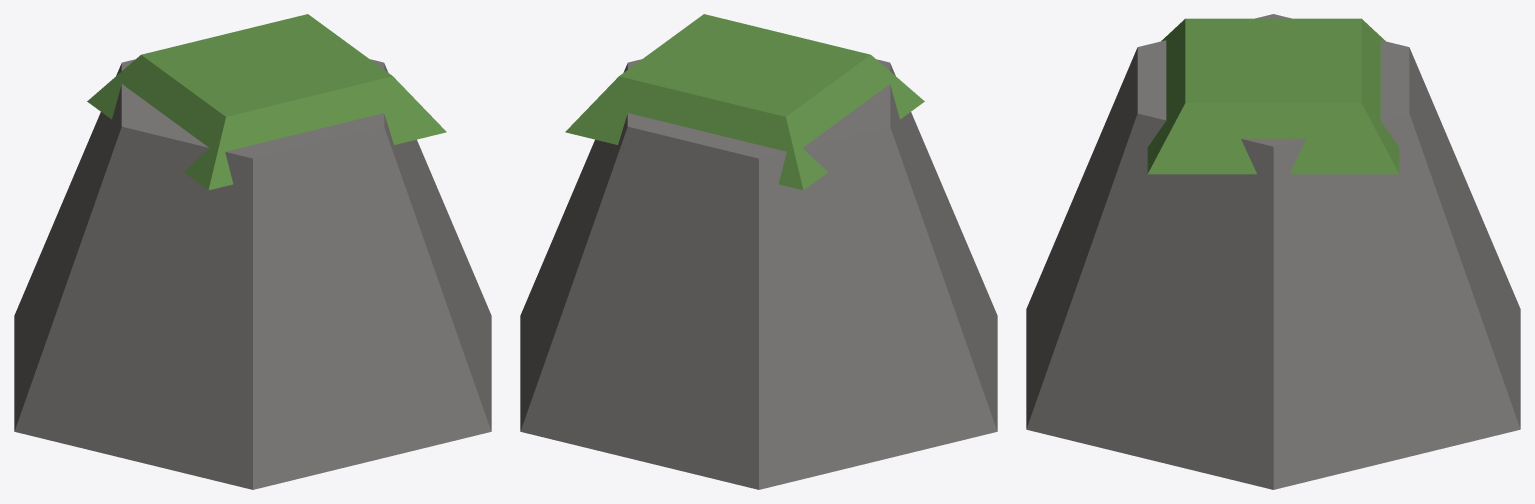
File: prop_moss_rock.glb
The picture shows the model from 3 angles, left to right: view 1: azimuth 30°, elevation 25°; view 2: azimuth 150°, elevation 25°; view 3: azimuth 270°, elevation 25°; orthographic projection. The views are drawn at different scales.
Visible parts, largest first — view 1: prop_moss_rock; view 2: prop_moss_rock; view 3: prop_moss_rock.
Part boxes in pixels (<box>): prop_moss_rock: <box>14,14,491,489</box>; prop_moss_rock: <box>520,14,997,489</box>; prop_moss_rock: <box>1026,14,1520,489</box>.
Size of the model in its own units: 0.34 by 0.2075 by 0.2944.
